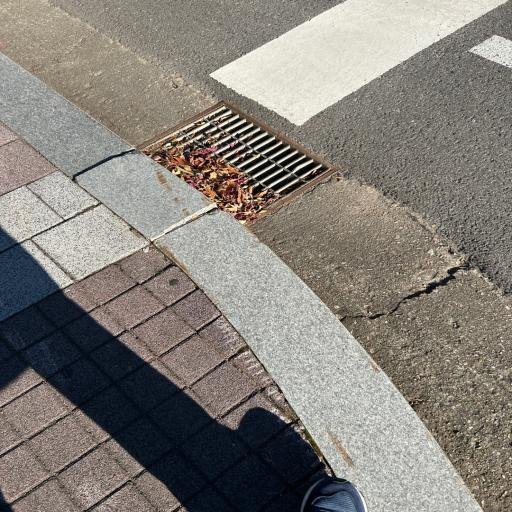debris: (232, 110, 330, 167), (196, 122, 200, 126), (191, 133, 194, 138), (236, 152, 239, 156)
drain: (146, 105, 332, 219)
